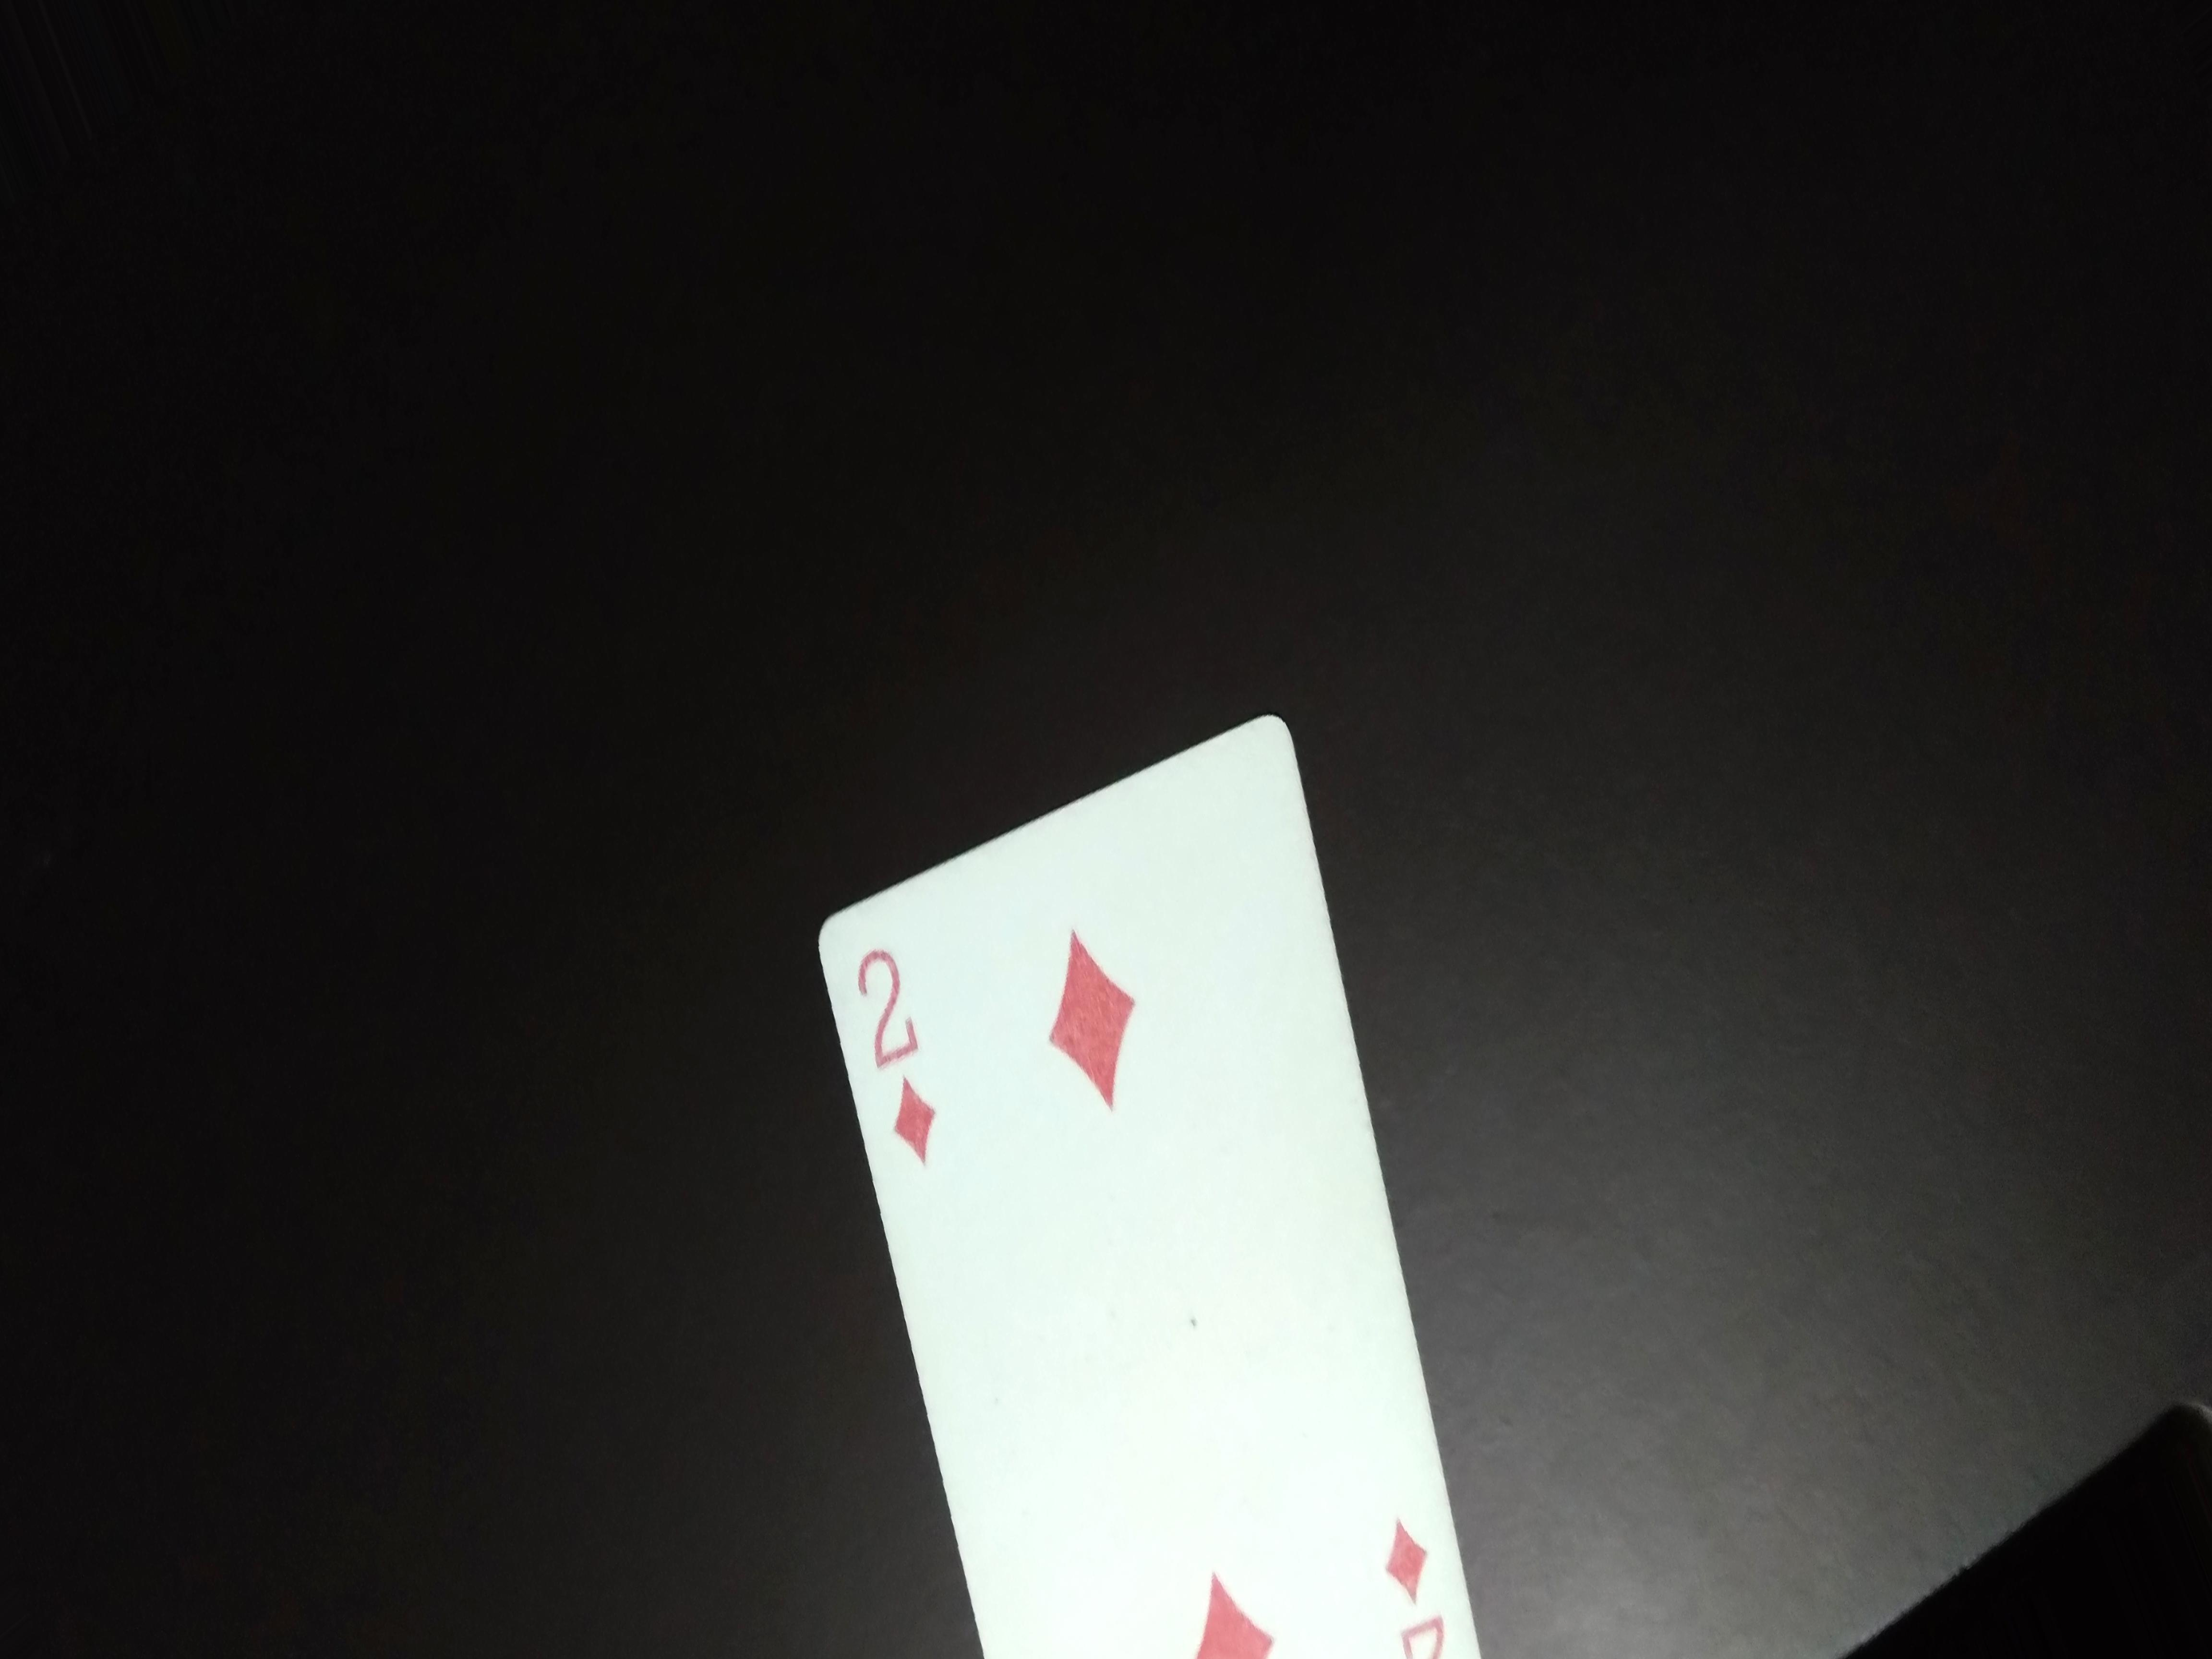2D: (819, 927, 984, 1180)
